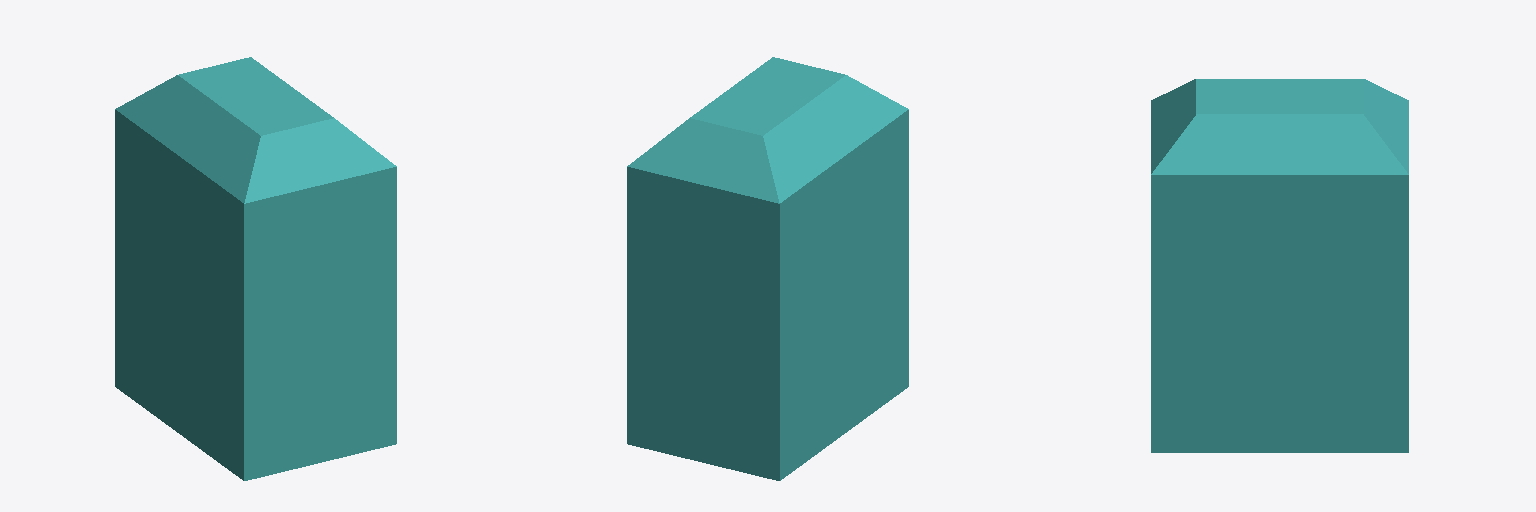
The picture shows the model from 3 angles: view 1: azimuth 30°, elevation 25°; view 2: azimuth 150°, elevation 25°; view 3: azimuth 270°, elevation 25°; orthographic projection.
Visible parts, largest first — view 1: R_Pierna; view 2: R_Pierna; view 3: R_Pierna.
Part boxes in pixels (x1,y1,x2,y2): R_Pierna: (115, 57, 396, 480); R_Pierna: (627, 57, 908, 480); R_Pierna: (1151, 79, 1408, 452).
Bounding box in the file's own units: 0.1697 × 0.3391 × 0.249.
1 materials, 1 textured.